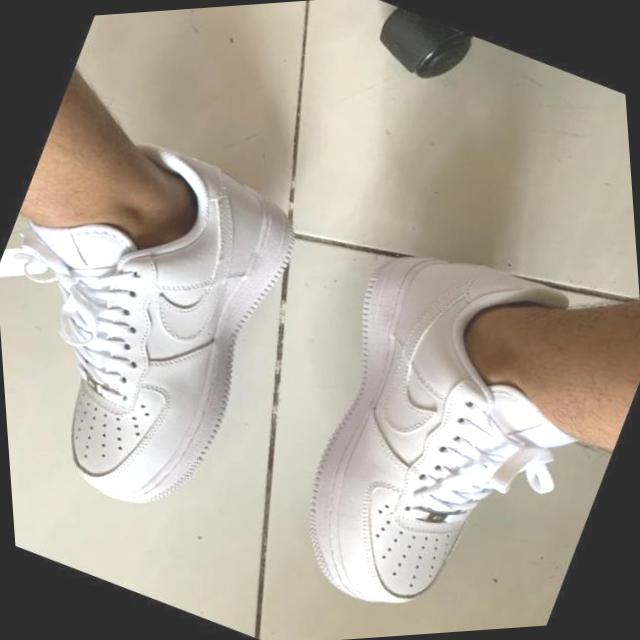nike_original_airforce: (198, 186, 640, 640), (0, 90, 339, 539)
